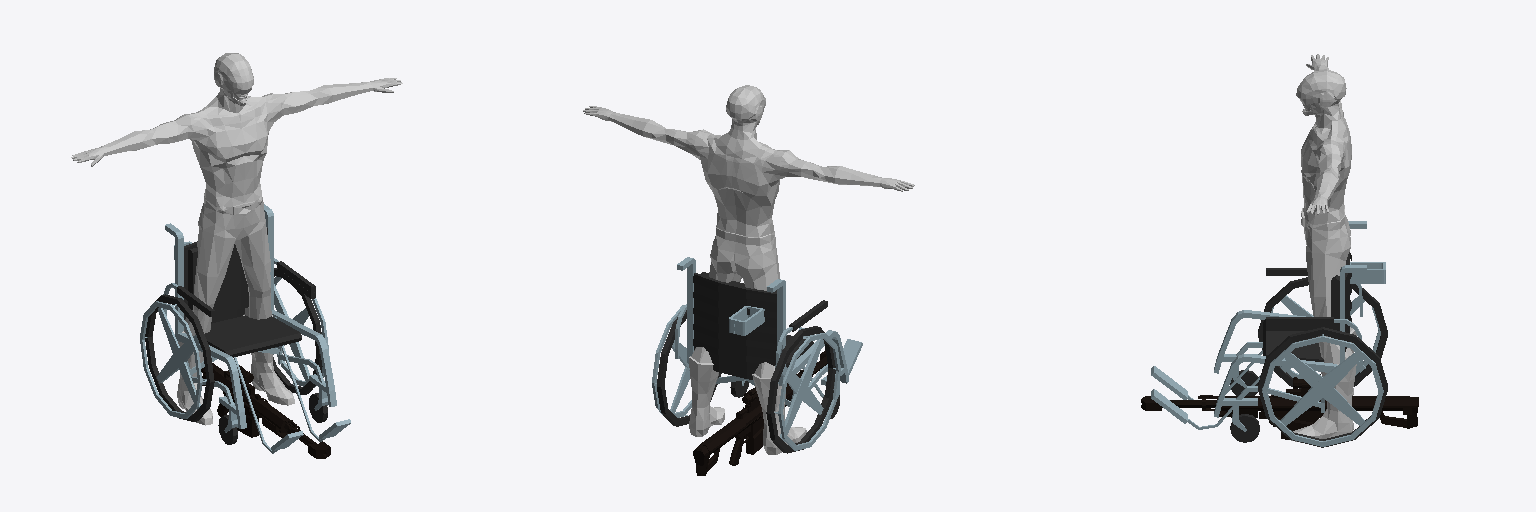
3 views of the same model, side by side, from view 1: azimuth 30°, elevation 25°; view 2: azimuth 150°, elevation 25°; view 3: azimuth 270°, elevation 25° (orthographic).
Parts seen in each view (by area): view 1: Mesh_8, Mesh_0, Mesh_2, Mesh_15, Mesh_3, Mesh_7; view 2: Mesh_8, Mesh_0, Mesh_2, Mesh_15, Mesh_3, Mesh_7; view 3: Mesh_8, Mesh_0, Mesh_3, Mesh_15, Mesh_2, Mesh_7, Mesh_14.
Part boxes in pixels (x1,y1,x2,y2): Mesh_8: (71,78,402,425); Mesh_0: (163,204,350,453); Mesh_2: (140,294,214,421); Mesh_15: (201,363,330,458); Mesh_3: (273,268,328,394); Mesh_7: (214,53,253,105); Mesh_8: (583,106,914,454); Mesh_0: (675,257,862,406); Mesh_2: (766,326,840,453); Mesh_15: (693,350,827,475); Mesh_3: (652,305,721,426); Mesh_7: (726,85,765,125); Mesh_8: (1291,54,1356,442); Mesh_0: (1151,221,1366,429); Mesh_3: (1258,327,1387,447); Mesh_15: (1141,374,1418,428); Mesh_2: (1258,277,1387,388); Mesh_7: (1296,69,1346,115); Mesh_14: (1230,414,1259,442).
Bounding box in the file's own units: 17.36 × 18.71 × 12.76.
Materials: 23 (3 with a texture image).